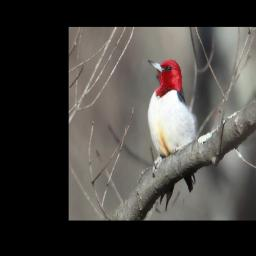Woodpecker: (145, 59, 200, 215)
